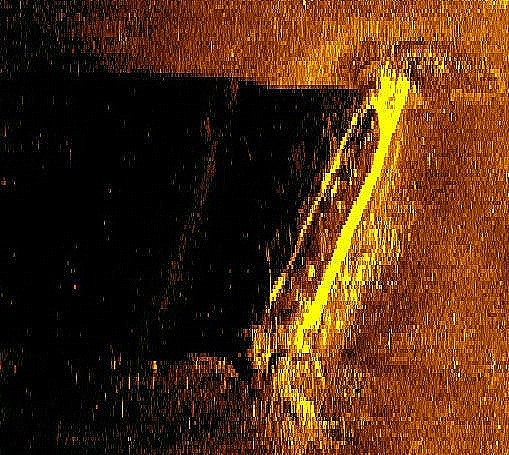ship: (248, 58, 411, 387)
